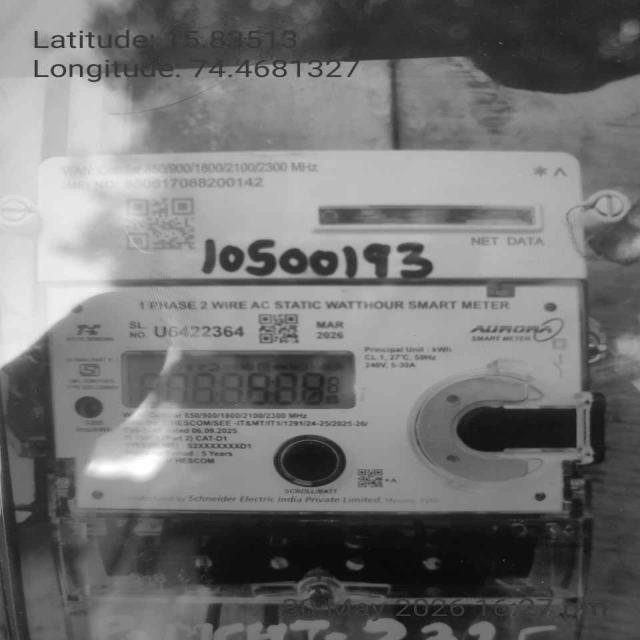meter: (45, 153, 585, 512)
